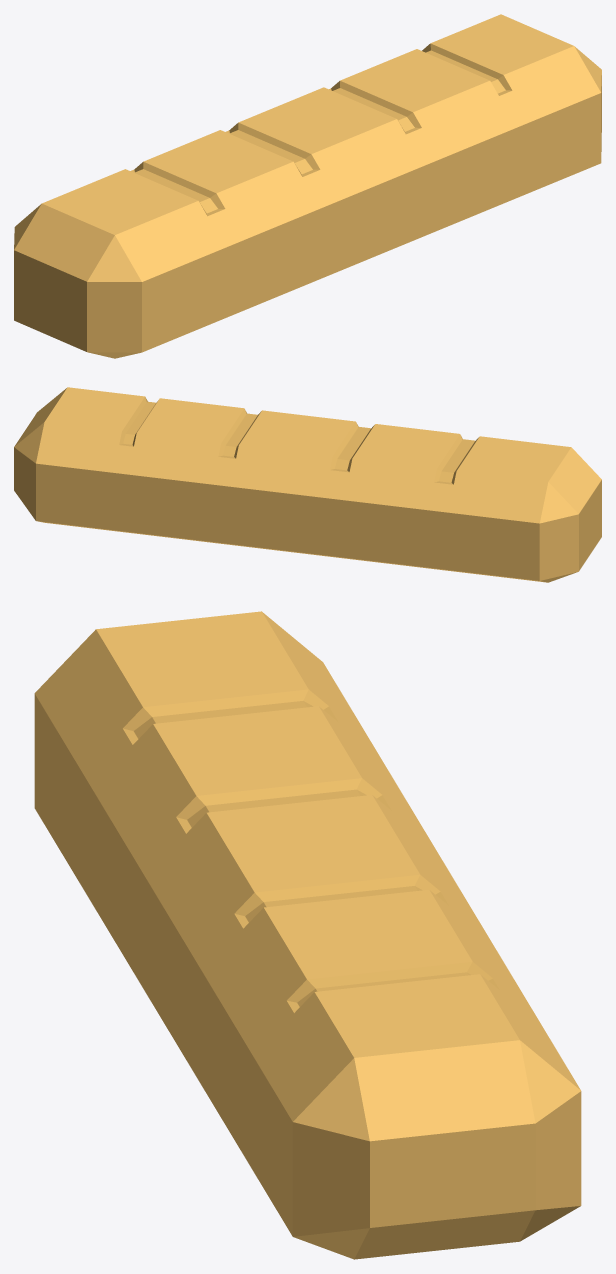
File: baguette.fbx
3 views of the same model, one above another, from view 1: azimuth 30°, elevation 25°; view 2: azimuth 150°, elevation 25°; view 3: azimuth 270°, elevation 25° (orthographic). The views are drawn at different scales.
Visible parts, largest first — view 1: pCube272; view 2: pCube272; view 3: pCube272.
Boxes of the visible parts, x1,y1,x2,y2 form: pCube272: (14,14,601,358); pCube272: (14,387,601,582); pCube272: (34,611,581,1259).
Bounding box in the file's own units: 43.69 × 8.24 × 20.25.
